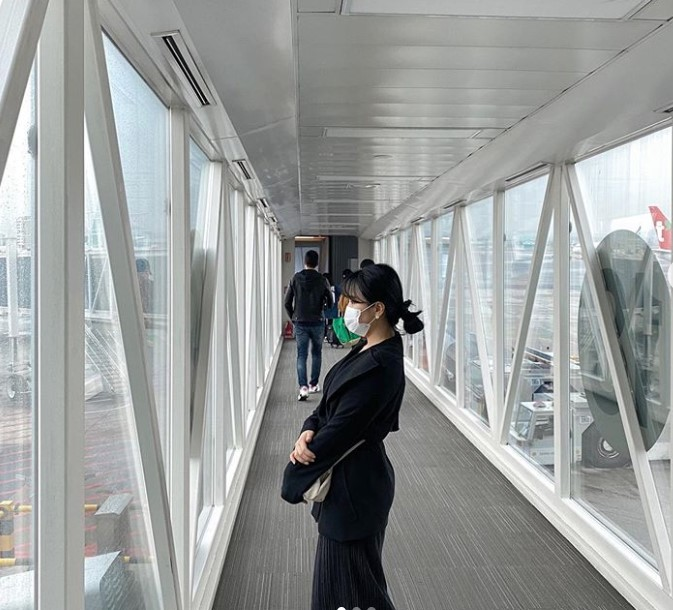face_with_mask: (339, 268, 400, 337)
